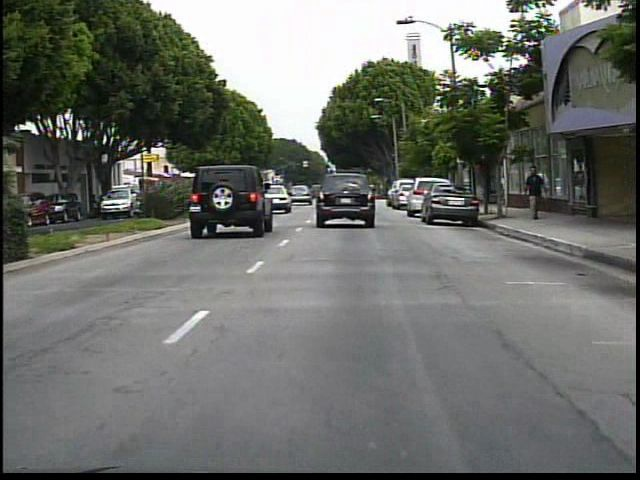person: (521, 164, 547, 224)
